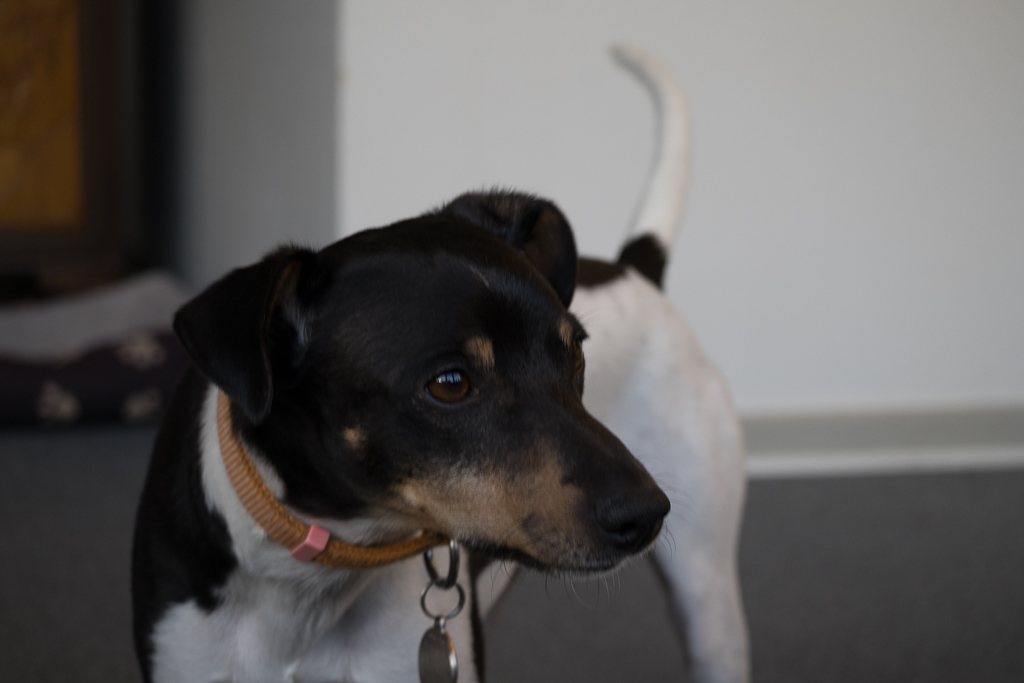Dog: (99, 30, 778, 683)
